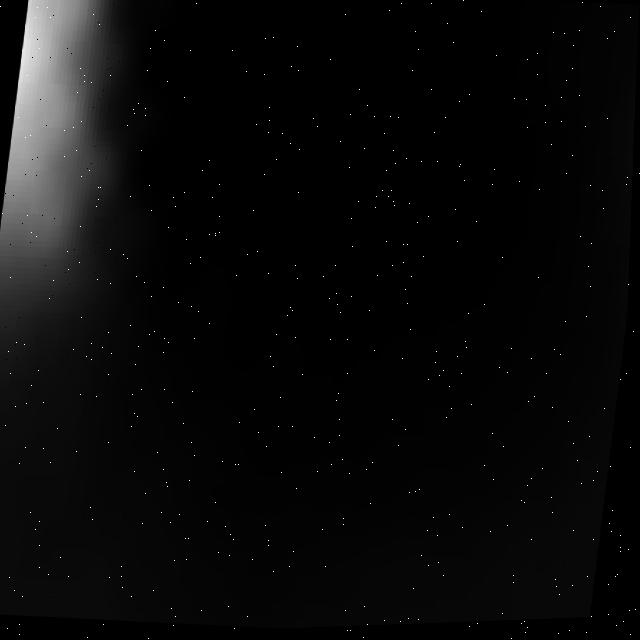person: (1, 1, 147, 357)
